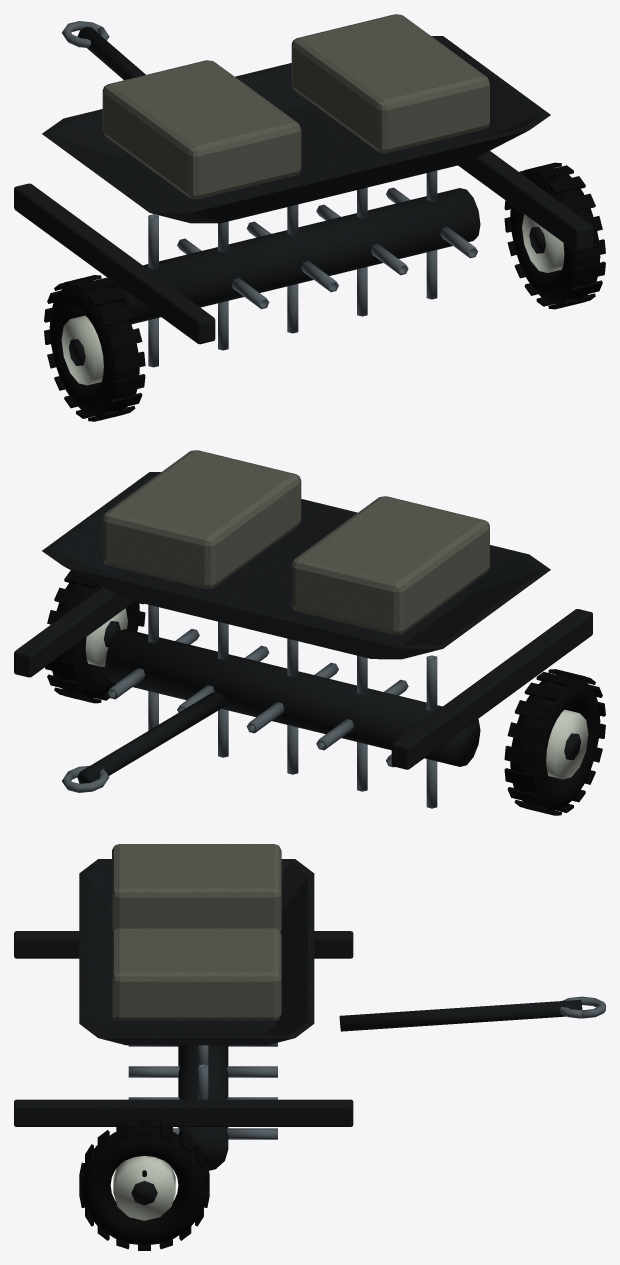
The model's file is TowBehindAerator.gltf.
3 views of the same model, one above another, from view 1: azimuth 30°, elevation 25°; view 2: azimuth 150°, elevation 25°; view 3: azimuth 270°, elevation 25° (orthographic). The views are drawn at different scales.
Parts seen in each view (by area): view 1: TowBehindAerator__Body, TowBehindAerator__Wheel_Tines, TowBehindAerator__Wheel_Transport-1, TowBehindAerator__Wheel_Transport1; view 2: TowBehindAerator__Body, TowBehindAerator__Wheel_Tines, TowBehindAerator__Wheel_Transport-1, TowBehindAerator__Wheel_Transport1; view 3: TowBehindAerator__Body, TowBehindAerator__Wheel_Transport1, TowBehindAerator__Wheel_Tines.
Part boxes in pixels (x1,y1,x2,y2): TowBehindAerator__Body: (14,14,592,344); TowBehindAerator__Wheel_Tines: (107,170,480,367); TowBehindAerator__Wheel_Transport-1: (44,275,145,421); TowBehindAerator__Wheel_Transport1: (504,162,605,309); TowBehindAerator__Body: (14,450,592,792); TowBehindAerator__Wheel_Tines: (105,604,480,808); TowBehindAerator__Wheel_Transport-1: (504,669,605,815); TowBehindAerator__Wheel_Transport1: (45,570,145,703); TowBehindAerator__Body: (14,844,605,1126); TowBehindAerator__Wheel_Transport1: (79,1119,209,1250); TowBehindAerator__Wheel_Tines: (128,1042,277,1170).
Size of the model in its own units: 1.25 by 0.609 by 1.4.
Materials: 1 (1 with a texture image).
